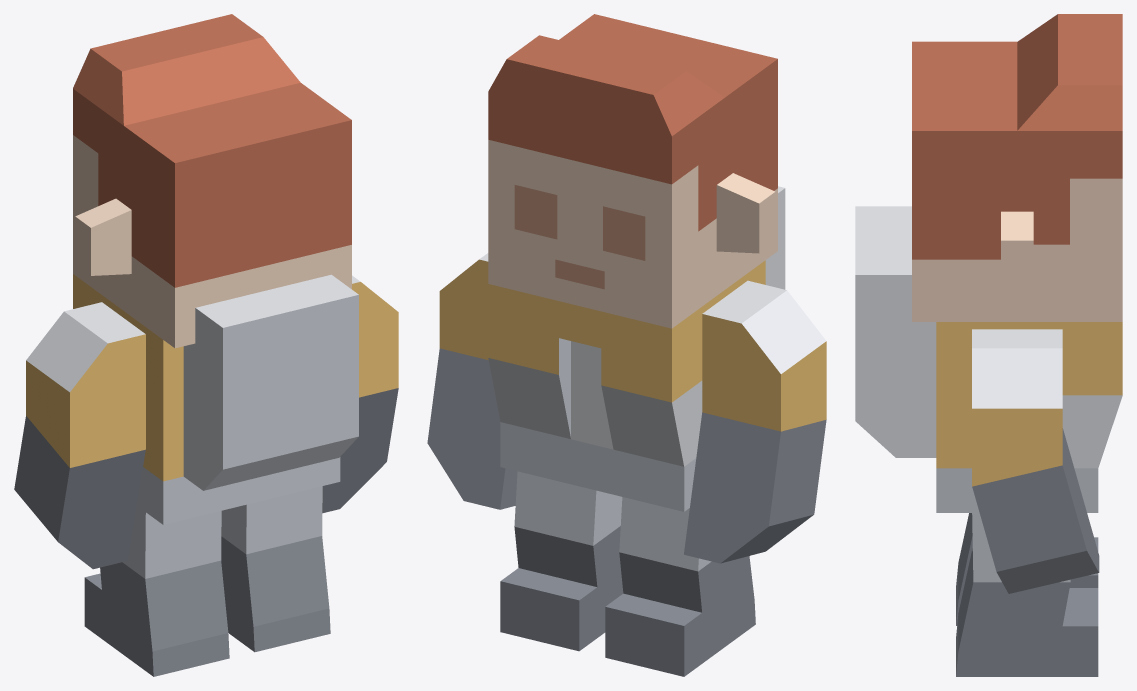
The model's file is astronautA.glb.
3 views of the same model, side by side, from view 1: azimuth 30°, elevation 25°; view 2: azimuth 150°, elevation 25°; view 3: azimuth 270°, elevation 25° (orthographic). The views are drawn at different scales.
Visible parts, largest first — view 1: astronautA; view 2: astronautA; view 3: astronautA.
Boxes of the visible parts, x1=… form: astronautA: x1=14, y1=14, x2=398, y2=676; astronautA: x1=427, y1=14, x2=826, y2=676; astronautA: x1=855, y1=14, x2=1122, y2=676.
Bounding box in the file's own units: 0.6784 × 1.11 × 0.4633.
